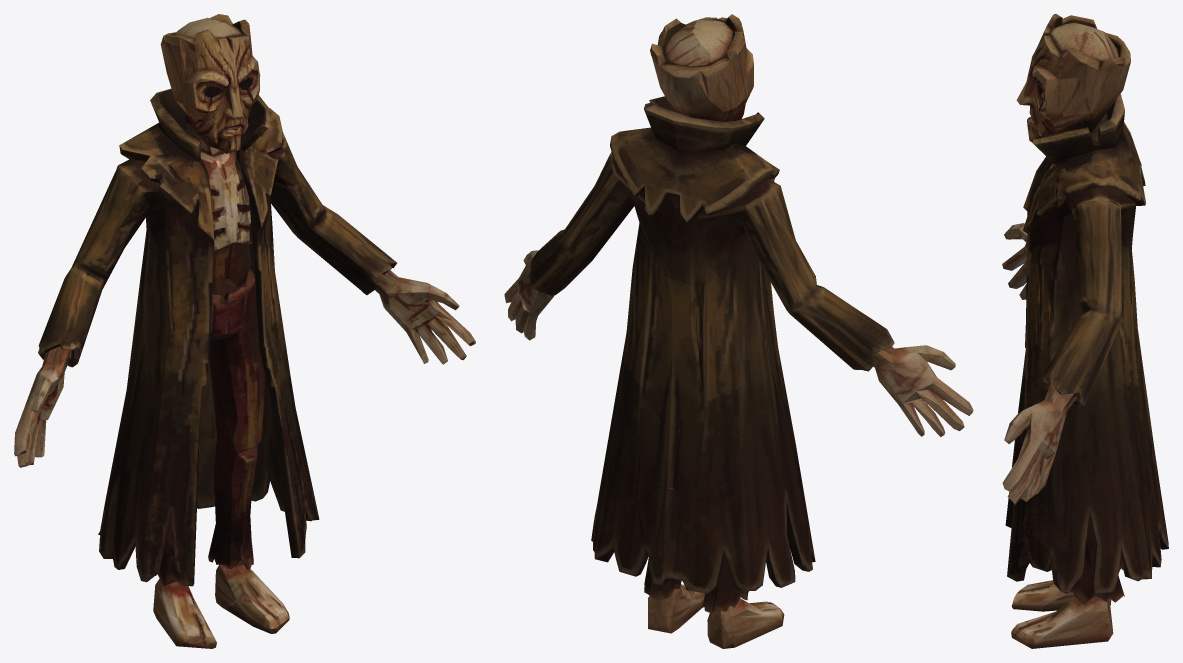
Rendered from INS_DM.glb.
The picture shows the model from 3 angles, left to right: view 1: azimuth 30°, elevation 25°; view 2: azimuth 150°, elevation 25°; view 3: azimuth 270°, elevation 25°; orthographic projection.
Bounding box in the file's own units: 1.53 × 1.9 × 0.4795.
1 material, 1 textured.
